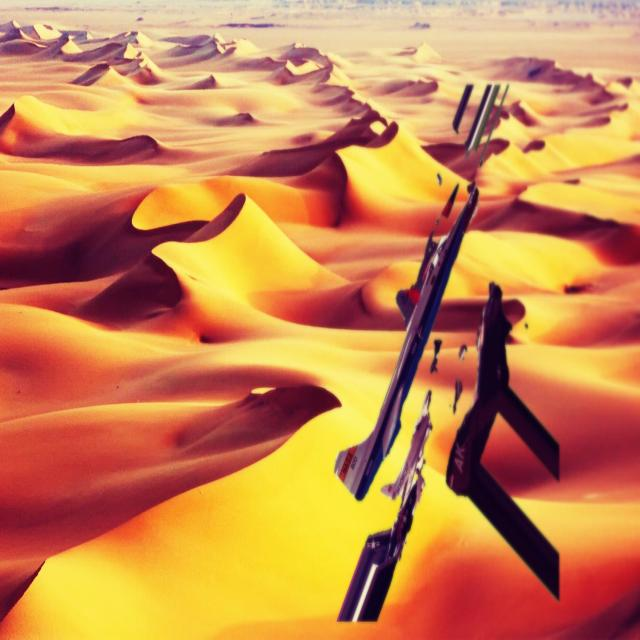airplane: (334, 180, 479, 500)
